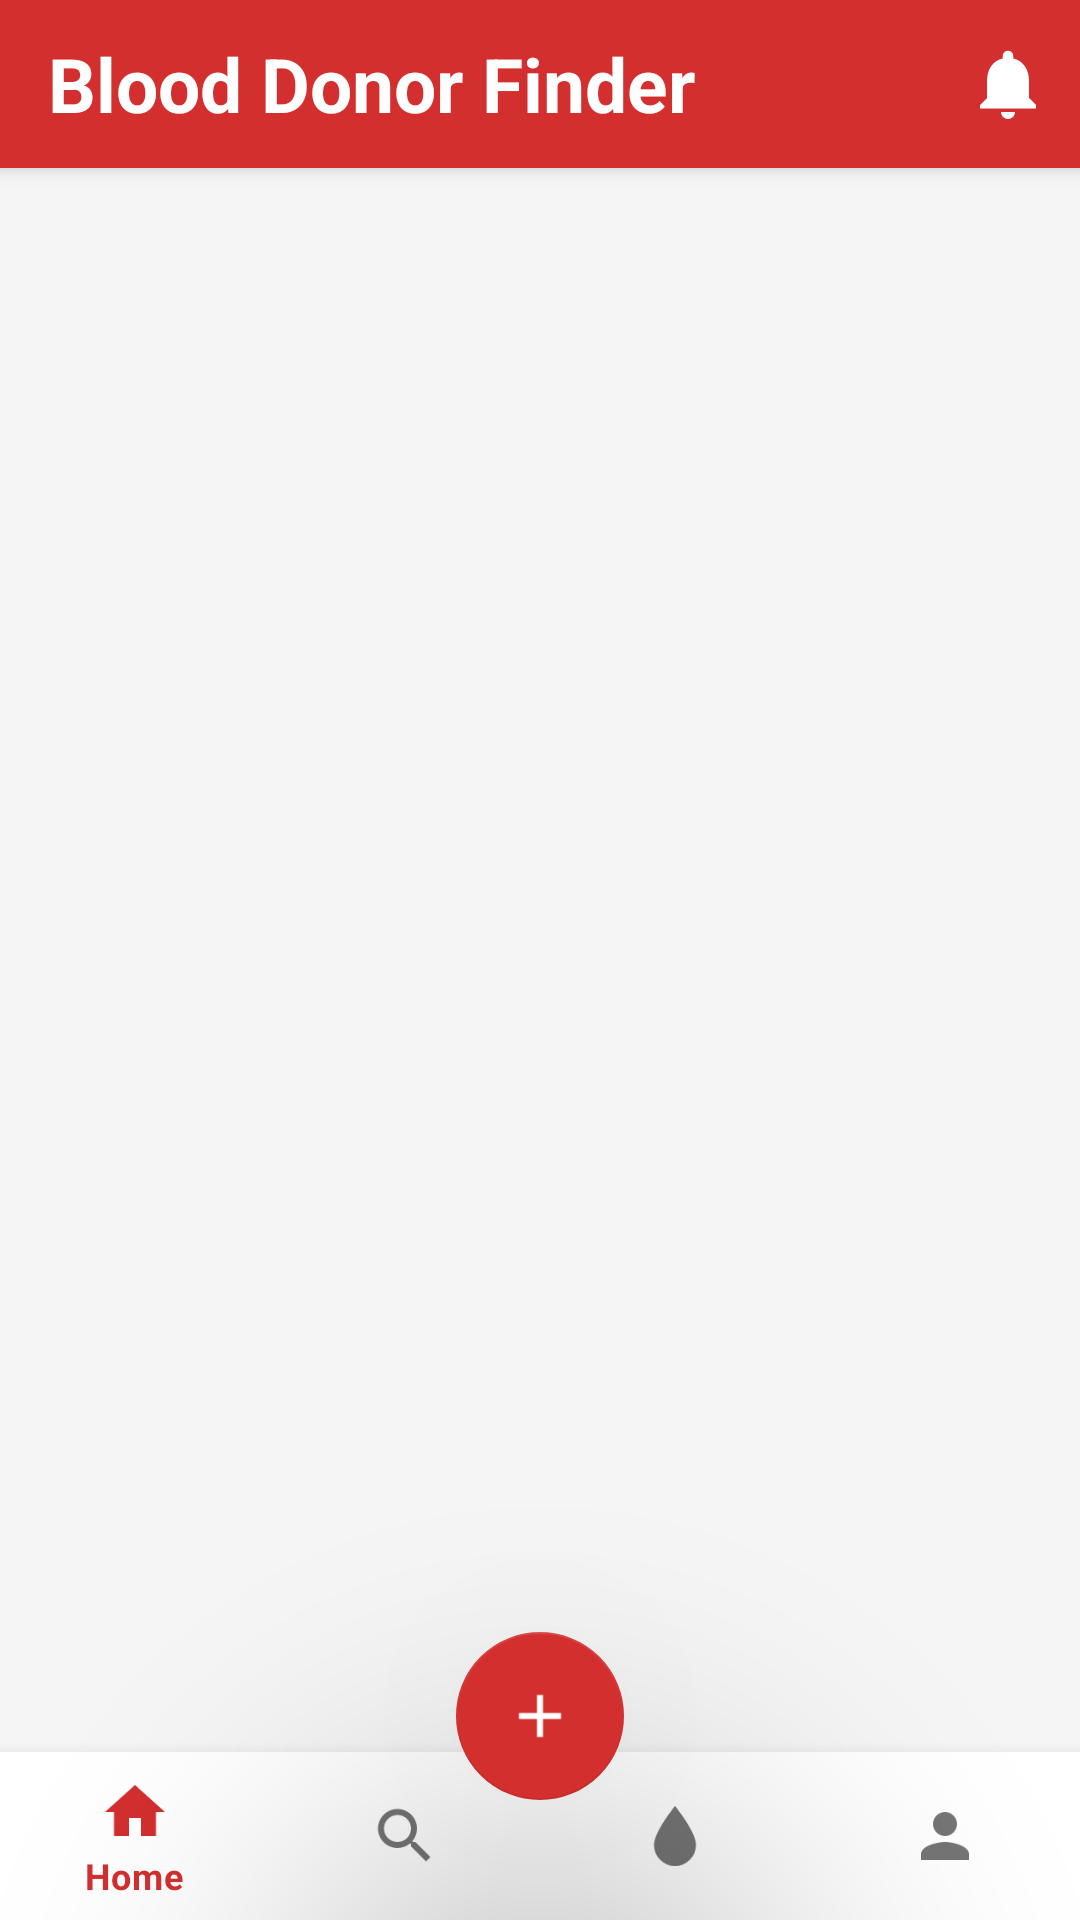

Screen size 1080 x 1920. Icon name, then its center in pixels as (x=x, y=y):
Notifications: (x=1008, y=84)
